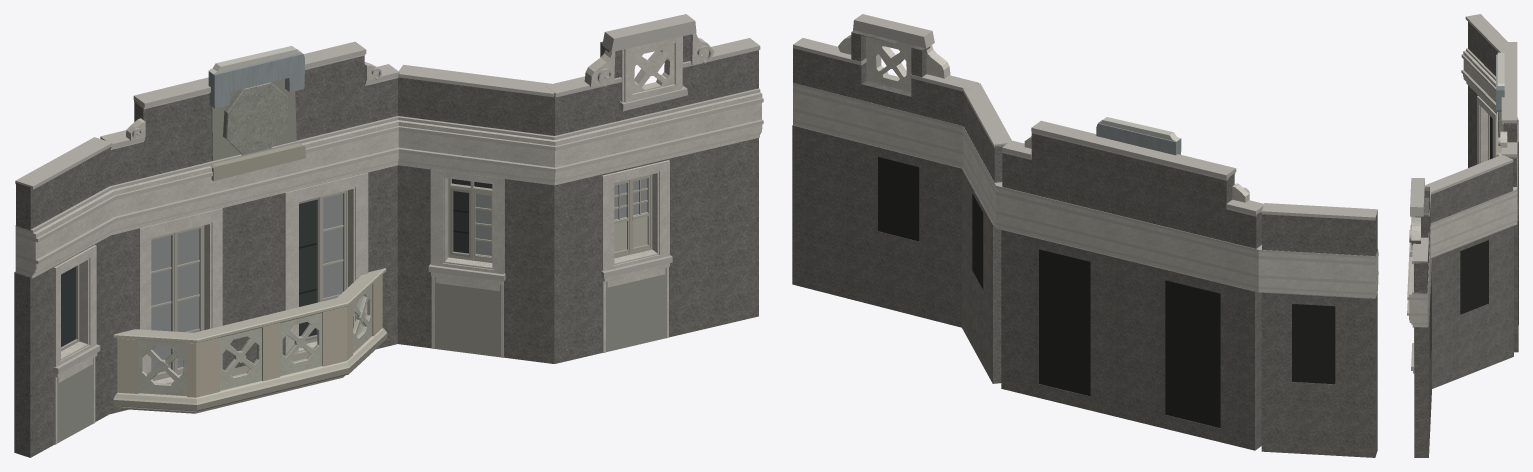
The model's file is jingan-cheng-family-residence-historic-balcony-web.glb.
The picture shows the model from 3 angles, left to right: view 1: azimuth 30°, elevation 25°; view 2: azimuth 150°, elevation 25°; view 3: azimuth 270°, elevation 25°; orthographic projection. The views are drawn at different scales.
Visible parts, largest first — view 1: 程氏住宅旧照中的临街花栏、折面长窗与切角石额; view 2: 程氏住宅旧照中的临街花栏、折面长窗与切角石额; view 3: 程氏住宅旧照中的临街花栏、折面长窗与切角石额.
Part boxes in pixels (x1=…): 程氏住宅旧照中的临街花栏、折面长窗与切角石额: x1=14, y1=14, x2=763, y2=457; 程氏住宅旧照中的临街花栏、折面长窗与切角石额: x1=792, y1=14, x2=1378, y2=457; 程氏住宅旧照中的临街花栏、折面长窗与切角石额: x1=1407, y1=14, x2=1518, y2=457.
Bounding box in the file's own units: 11.04 × 4.91 × 2.11.
Materials: 21 (5 with a texture image).
